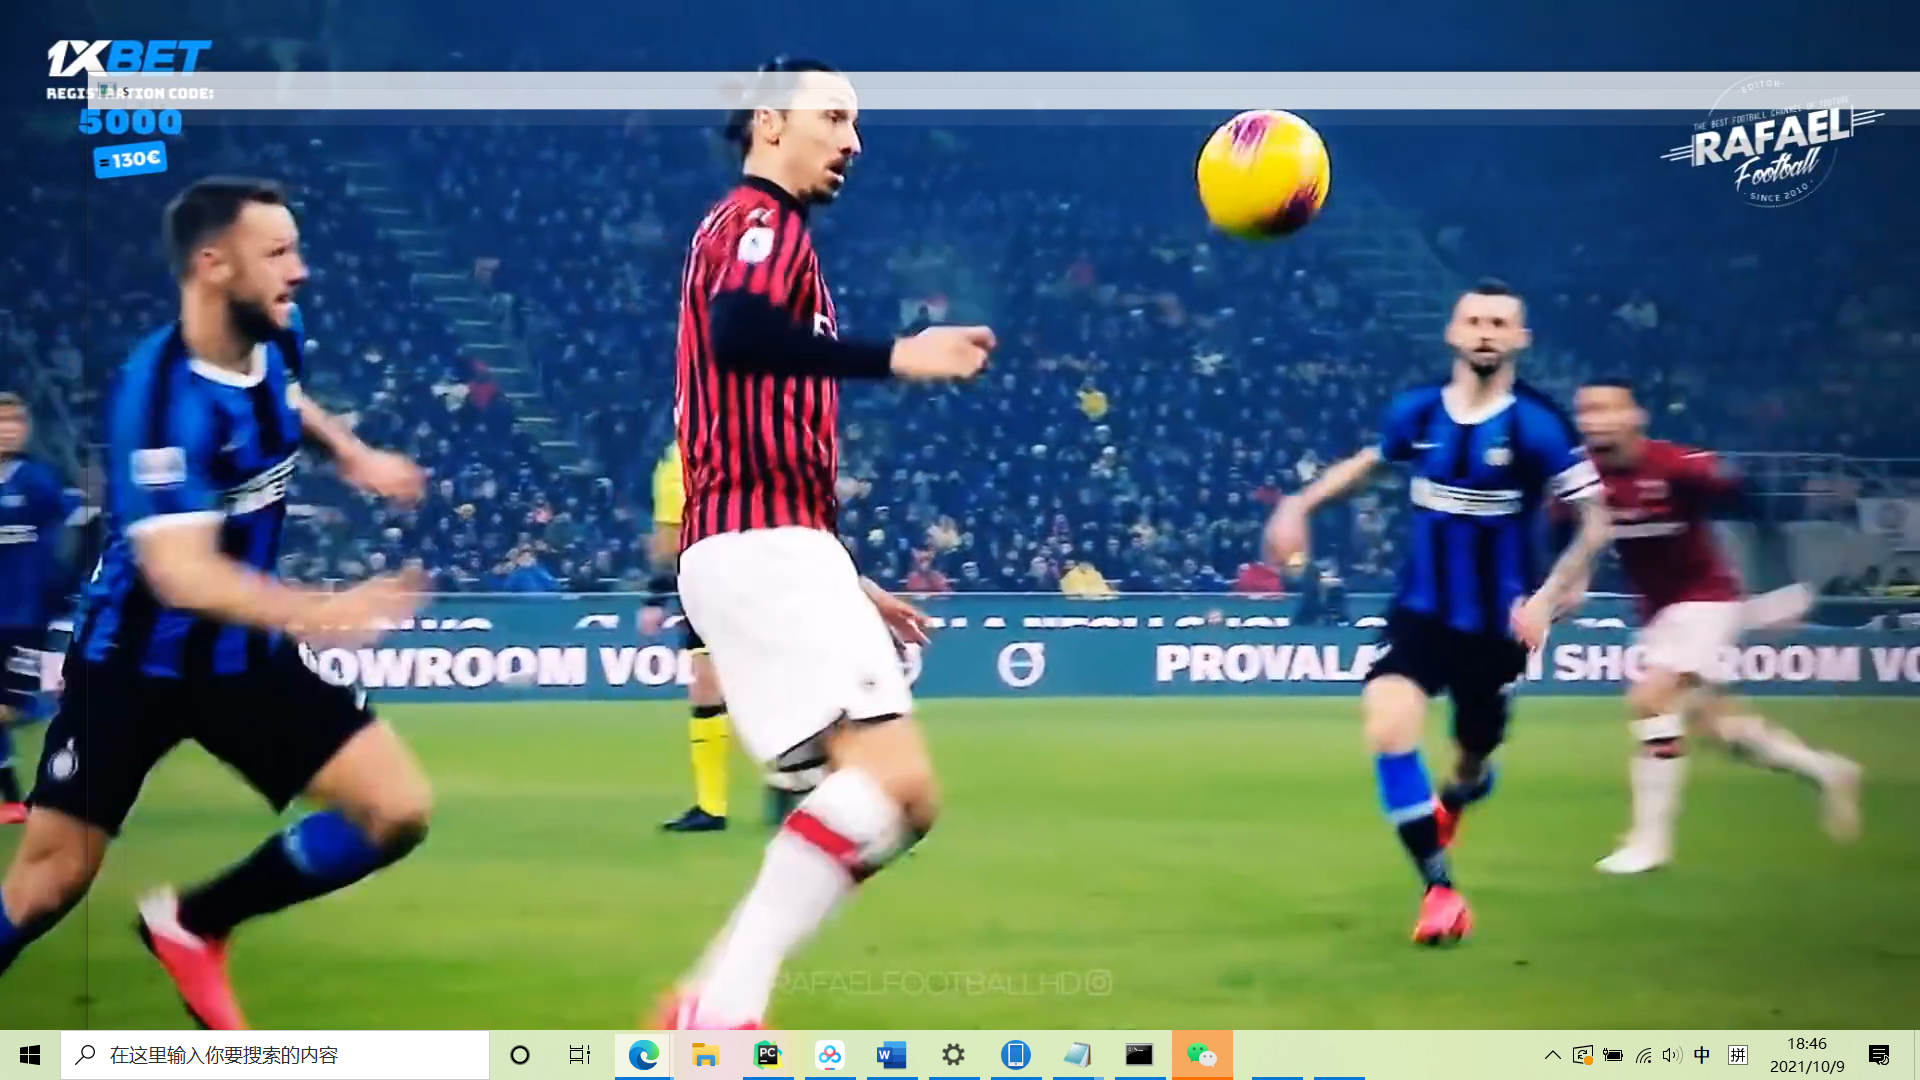ft: (1191, 109, 1341, 249)
